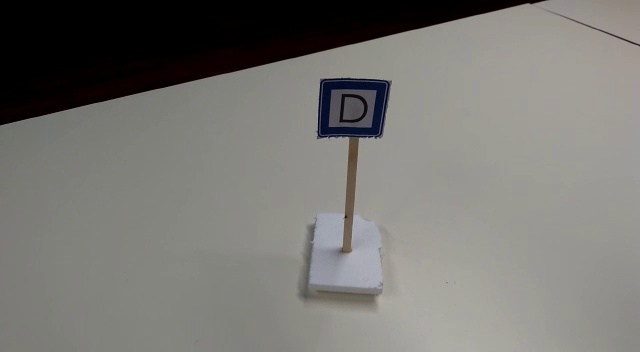durak: (316, 77, 386, 138)
